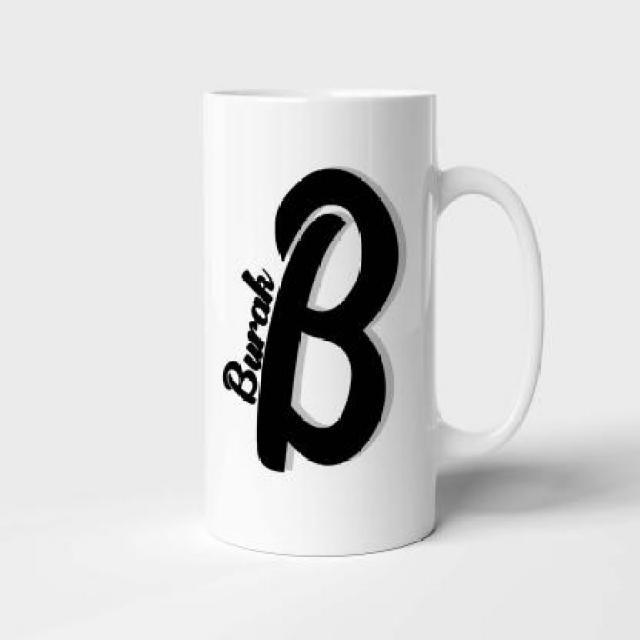taza: (200, 90, 548, 558)
